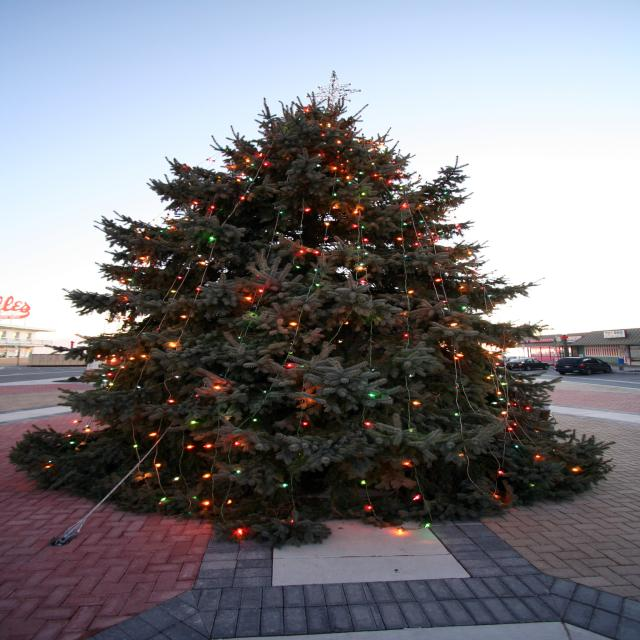Christmas-tree: (3, 54, 640, 526)
